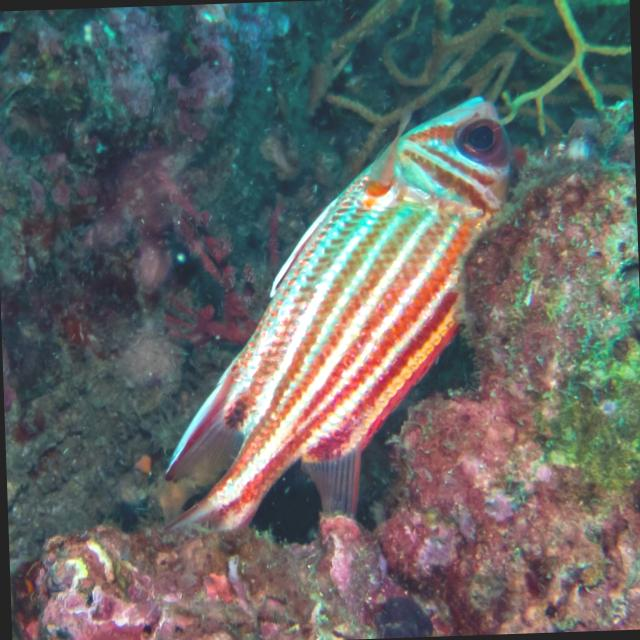Asker Baligi: (144, 92, 528, 540)
